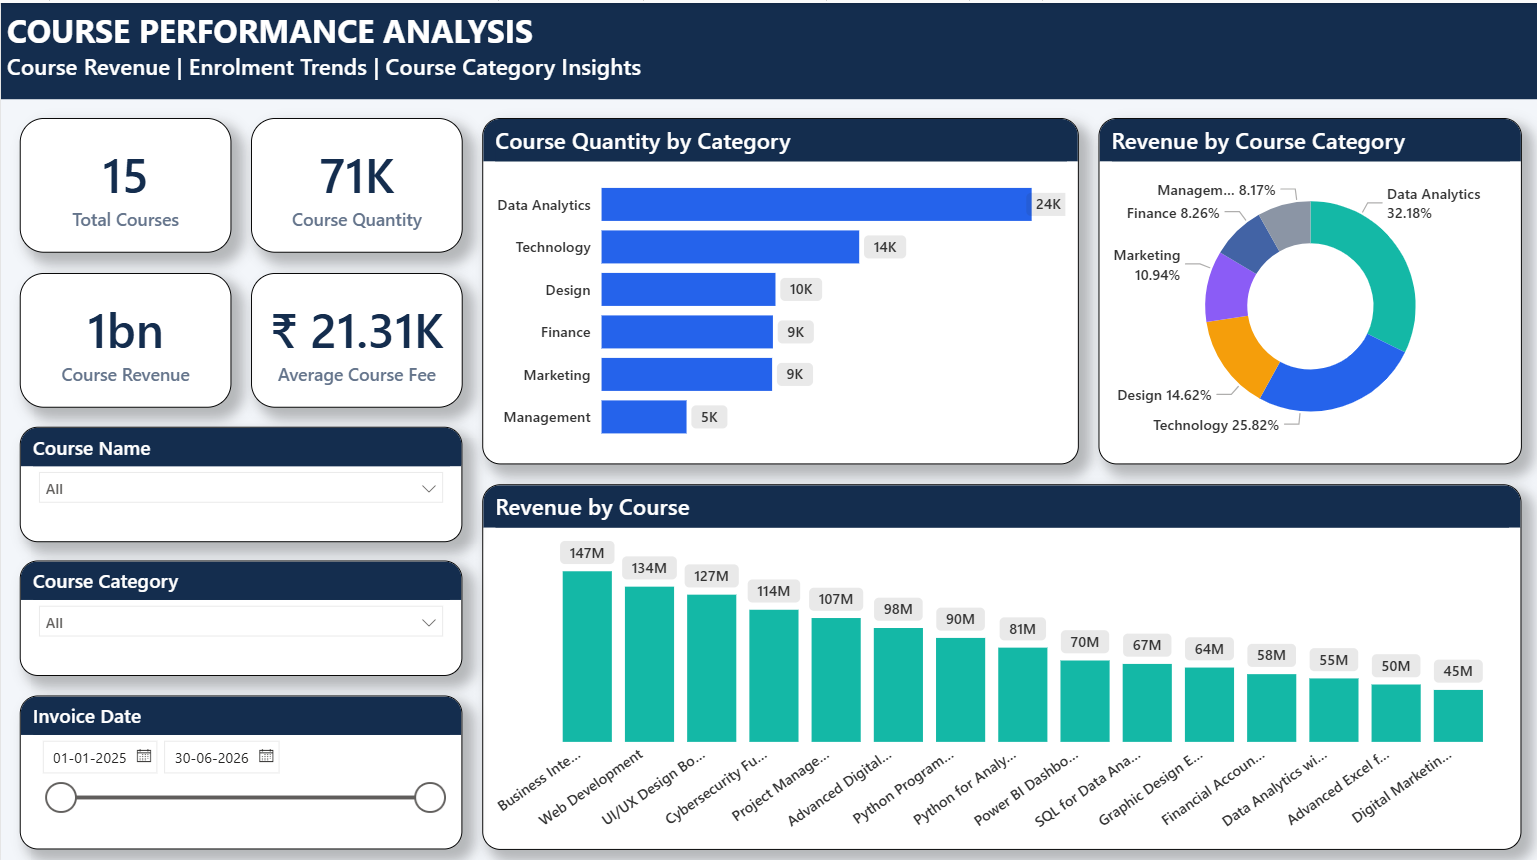

The dashboard page shown, as its layout file describes it:
{"tool":"powerbi","page":{"name":"Course Performance Analysis","canvas":[1280,720],"ordinal":1},"visuals":[{"type":"textbox","box":[0,0,1280,80],"z":0},{"type":"card","fields":{"Values":["Colleges.Total Courses"]},"box":[16,96,176,112],"z":1000},{"type":"card","fields":{"Values":["Colleges.Total Course Quantity"]},"box":[208,96,176,112],"z":2000},{"type":"card","fields":{"Values":["Courses.Average Course Fee"]},"box":[208,224,176,112],"z":3000},{"type":"card","fields":{"Values":["Courses.Course Revenue"]},"box":[16,224,176,112],"z":4000},{"type":"clusteredColumnChart","title":"Revenue by Course","fields":{"Category":["Courses.Course_Name"],"Y":["Courses.Course Revenue"]},"box":[400,400,864,304],"z":5000},{"type":"clusteredBarChart","title":"Course Quantity by Category","fields":{"Category":["Courses.Course_Category"],"Y":["Colleges.Total Course Quantity"]},"box":[400,96,496,288],"z":6000},{"type":"donutChart","title":"Revenue by Course Category","fields":{"Category":["Courses.Course_Category"],"Y":["Courses.Course Revenue"]},"box":[912,96,352,288],"z":7000},{"type":"slicer","title":"Course Name","fields":{"Values":["Courses.Course_Name"]},"box":[16,352,368,96],"z":8000},{"type":"slicer","title":"Course Category","fields":{"Values":["Courses.Course_Category"]},"box":[16,464,368,96],"z":9000},{"type":"slicer","title":"Invoice Date","fields":{"Values":["Invoices.Invoice_Date"]},"box":[16,576,368,128],"z":10000}]}

Visuals, with their boxes in screenshot pixels (x1, y1, x2, y2), scaled from the page's 1280x720 canvas onto the 1537x860 screenshot:
textbox: [x1=0, y1=0, x2=1536, y2=96]
card - Colleges.Total Courses: [x1=19, y1=115, x2=231, y2=248]
card - Colleges.Total Course Quantity: [x1=250, y1=115, x2=461, y2=248]
card - Courses.Average Course Fee: [x1=250, y1=268, x2=461, y2=401]
card - Courses.Course Revenue: [x1=19, y1=268, x2=231, y2=401]
"Revenue by Course" clusteredColumnChart: [x1=480, y1=478, x2=1518, y2=841]
"Course Quantity by Category" clusteredBarChart: [x1=480, y1=115, x2=1076, y2=459]
"Revenue by Course Category" donutChart: [x1=1095, y1=115, x2=1518, y2=459]
"Course Name" slicer: [x1=19, y1=420, x2=461, y2=535]
"Course Category" slicer: [x1=19, y1=554, x2=461, y2=669]
"Invoice Date" slicer: [x1=19, y1=688, x2=461, y2=841]
